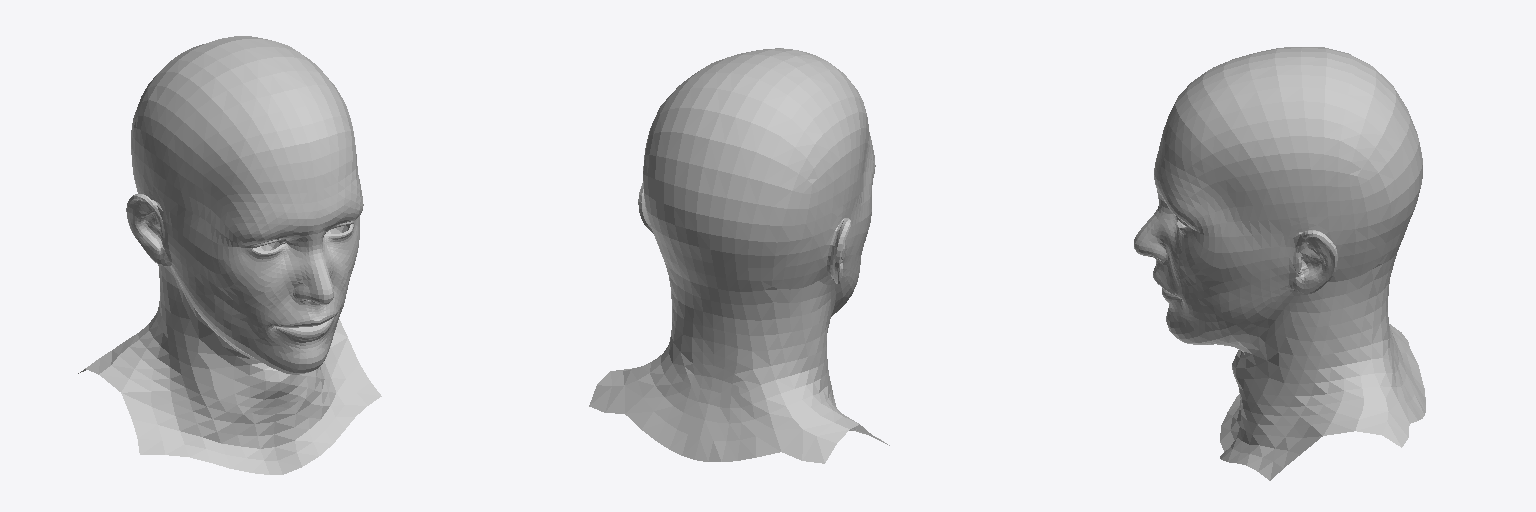
Rendered from RogerHead.obj.
3 renders of one model, left to right at view 1: azimuth 30°, elevation 25°; view 2: azimuth 150°, elevation 25°; view 3: azimuth 270°, elevation 25°, orthographic.
Visible parts, largest first — view 1: CC_Base_Body; view 2: CC_Base_Body; view 3: CC_Base_Body.
Part boxes in pixels (x1,y1,x2,y2): CC_Base_Body: (78,36,381,474); CC_Base_Body: (589,48,889,463); CC_Base_Body: (1134,47,1425,480).
Size of the model in its own units: 0.2185 by 0.3435 by 0.229.